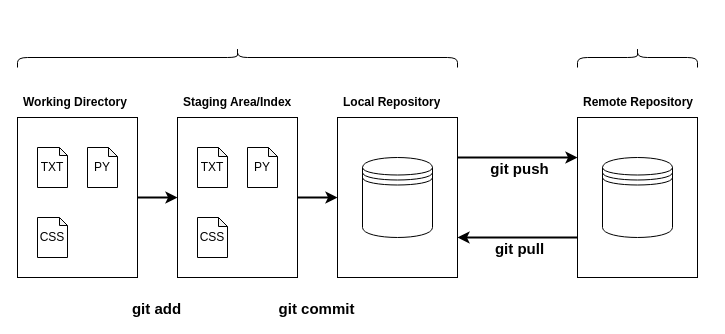
This 725x334 diagram has some shape labels left out. The shapes that lost their labels are listed below. From the top down, each one's centre as x and y in pixels, then its label:
At pixel 237 57: "LOCAL (PERSONAL COMPUTER)".
At pixel 637 57: "INTERNET".
